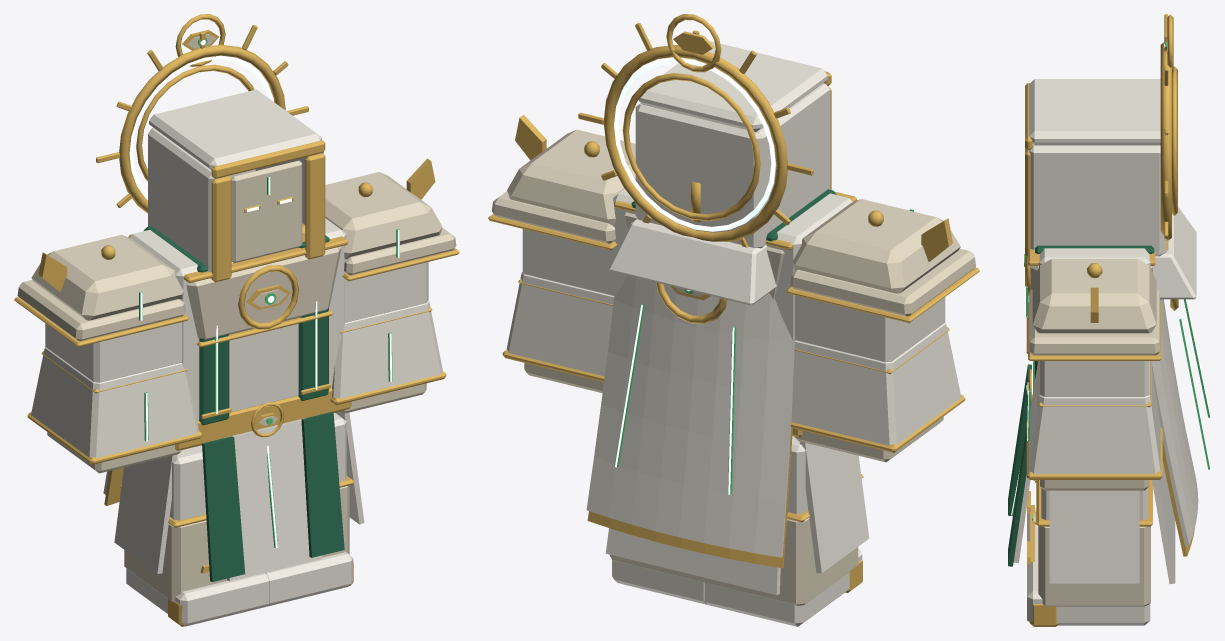
The model's file is Lumen.fbx.
The picture shows the model from 3 angles, left to right: view 1: azimuth 30°, elevation 25°; view 2: azimuth 150°, elevation 25°; view 3: azimuth 270°, elevation 25°; orthographic projection. The views are drawn at different scales.
Visible parts, largest first — view 1: Armor_Lumen_Belt_RobeSway_Common, Armor_Lumen_Helm_Robe_Common, Armor_Lumen_BracerR_Robe_Common, Armor_Lumen_Belt_StoleSway_Common, Armor_Lumen_Chest_Robe_Common, Armor_Lumen_Helm_Gold_Common, Armor_Lumen_PauldronR_Ivory_Common, Armor_Lumen_BracerL_Robe_Common, Armor_Lumen_Chest_Ivory_Common, Armor_Lumen_PauldronL_Ivory_Common, Armor_Lumen_Helm_Ivory_Common, Armor_Lumen_PauldronR_Robe_Common (+25 smaller); view 2: Armor_Lumen_Chest_RobeSway_Common, Armor_Lumen_Helm_Robe_Common, Armor_Lumen_BracerR_Robe_Common, Armor_Lumen_Belt_RobeSway_Common, Armor_Lumen_PauldronR_Ivory_Common, Armor_Lumen_BracerL_Robe_Common, Armor_Lumen_PauldronL_Ivory_Common, Armor_Lumen_Helm_Gold_Common, Armor_Lumen_PauldronR_Robe_Common, Armor_Lumen_Helm_Gold_Legendary, Armor_Lumen_PauldronR_Ivory_Uncommon, Armor_Lumen_PauldronL_Robe_Common (+20 smaller); view 3: Armor_Lumen_Helm_Robe_Common, Armor_Lumen_Belt_RobeSway_Common, Armor_Lumen_BracerL_Robe_Common, Armor_Lumen_PauldronL_Ivory_Common, Armor_Lumen_Chest_RobeSway_Common, Armor_Lumen_GreaveL_Ivory_Common, Armor_Lumen_PauldronL_Robe_Common, Armor_Lumen_PauldronL_Ivory_Uncommon, Armor_Lumen_Helm_Gold_Common, Armor_Lumen_BootL_Robe_Common, Armor_Lumen_Belt_StoleSway_Common, Armor_Lumen_Chest_Robe_Common (+14 smaller).
Boxes of the visible parts, x1,y1,x2,y2 form: Armor_Lumen_Belt_RobeSway_Common: (114, 411, 364, 581); Armor_Lumen_Helm_Robe_Common: (143, 89, 323, 278); Armor_Lumen_BracerR_Robe_Common: (31, 347, 198, 458); Armor_Lumen_Belt_StoleSway_Common: (202, 412, 344, 581); Armor_Lumen_Chest_Robe_Common: (129, 218, 346, 420); Armor_Lumen_Helm_Gold_Common: (119, 44, 325, 282); Armor_Lumen_PauldronR_Ivory_Common: (31, 234, 183, 320); Armor_Lumen_BracerL_Robe_Common: (332, 300, 442, 398); Armor_Lumen_Chest_Ivory_Common: (186, 246, 341, 339); Armor_Lumen_PauldronL_Ivory_Common: (325, 172, 442, 259); Armor_Lumen_Helm_Ivory_Common: (231, 160, 302, 263); Armor_Lumen_PauldronR_Robe_Common: (45, 299, 181, 382); Armor_Lumen_Chest_RobeSway_Common: (586, 275, 794, 557); Armor_Lumen_Helm_Robe_Common: (609, 41, 830, 305); Armor_Lumen_BracerR_Robe_Common: (791, 322, 961, 445); Armor_Lumen_Belt_RobeSway_Common: (605, 441, 869, 595); Armor_Lumen_PauldronR_Ivory_Common: (792, 199, 960, 293); Armor_Lumen_BracerL_Robe_Common: (506, 271, 614, 376); Armor_Lumen_PauldronL_Ivory_Common: (507, 129, 635, 225); Armor_Lumen_Helm_Gold_Common: (603, 45, 831, 241); Armor_Lumen_PauldronR_Robe_Common: (794, 270, 945, 362); Armor_Lumen_Helm_Gold_Legendary: (622, 14, 760, 221); Armor_Lumen_PauldronR_Ivory_Uncommon: (790, 248, 975, 316); Armor_Lumen_PauldronL_Robe_Common: (522, 225, 614, 295); Armor_Lumen_Helm_Robe_Common: (1029, 79, 1196, 299); Armor_Lumen_Belt_RobeSway_Common: (1013, 417, 1175, 584); Armor_Lumen_BracerL_Robe_Common: (1028, 361, 1160, 474); Armor_Lumen_PauldronL_Ivory_Common: (1032, 259, 1156, 333); Armor_Lumen_Chest_RobeSway_Common: (1151, 299, 1198, 545); Armor_Lumen_GreaveL_Ivory_Common: (1038, 526, 1150, 606); Armor_Lumen_PauldronL_Robe_Common: (1039, 361, 1149, 396); Armor_Lumen_PauldronL_Ivory_Uncommon: (1029, 289, 1160, 355); Armor_Lumen_Helm_Gold_Common: (1025, 42, 1171, 257); Armor_Lumen_BootL_Robe_Common: (1027, 550, 1150, 625); Armor_Lumen_Belt_StoleSway_Common: (1008, 364, 1031, 566); Armor_Lumen_Chest_Robe_Common: (1038, 248, 1150, 267).
Size of the model in its own units: 474 by 628 by 204.
